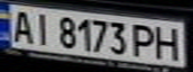1: (72, 16, 93, 52)
3: (106, 19, 130, 56)
7: (90, 17, 109, 53)
8: (54, 14, 78, 48)
A: (6, 8, 36, 44)
H: (151, 24, 187, 61)
I: (30, 10, 57, 46)
P: (127, 21, 160, 59)
